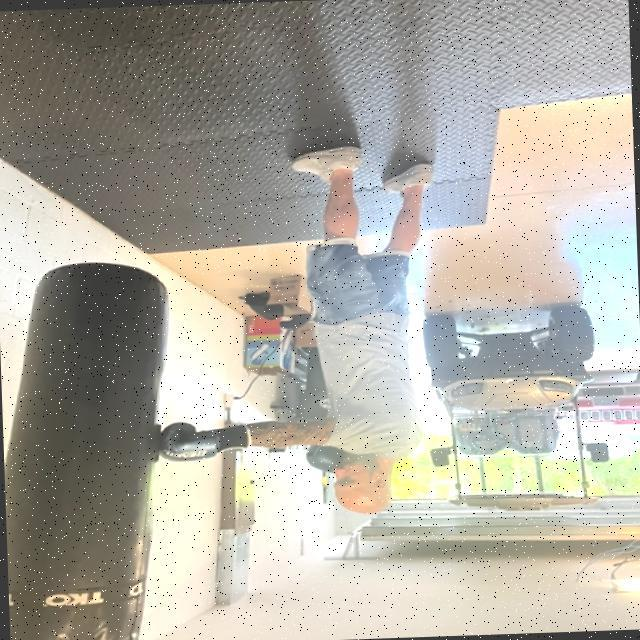jab: (132, 388, 448, 536)
